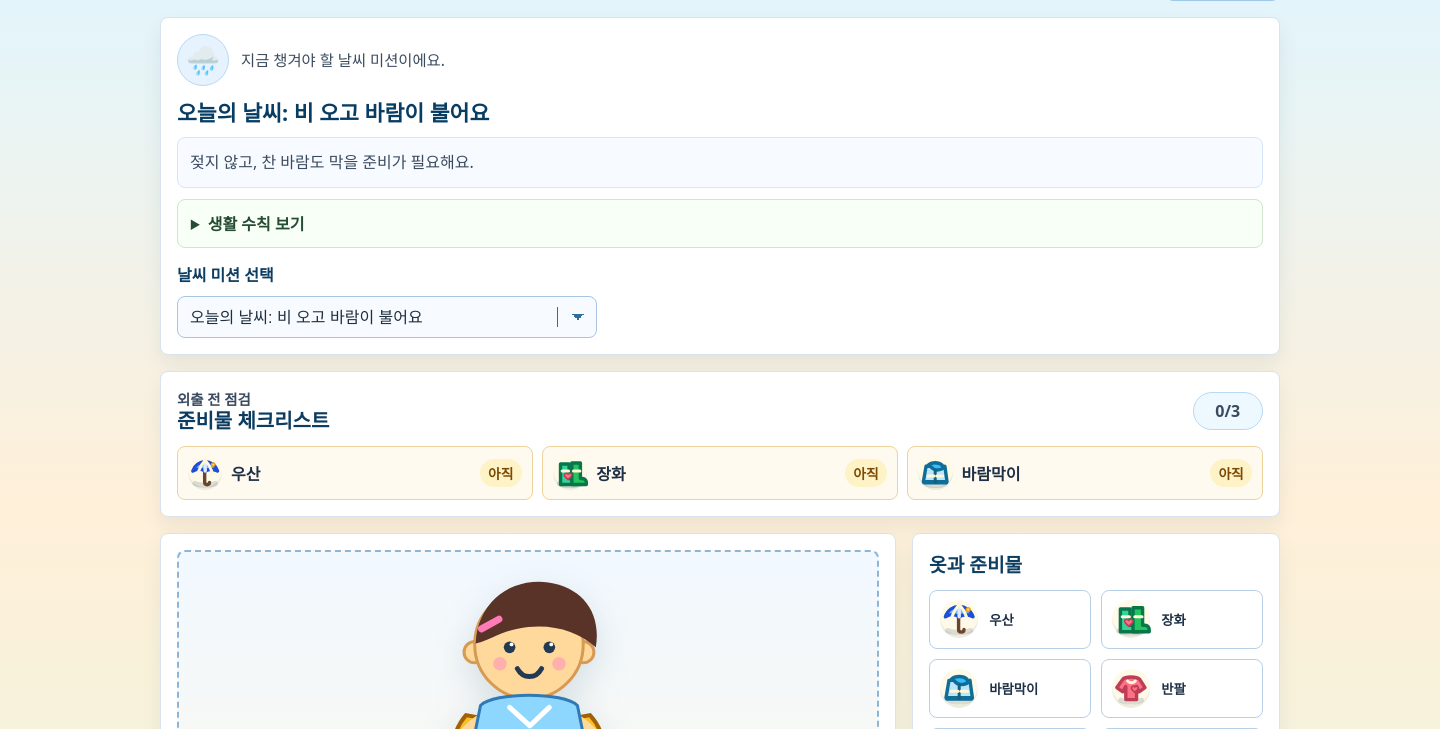
Test: weather outfit planner › updates the pre-outing checklist while students select items
Expected: the list item "우산" shows "아직", [488,464,513,483]
Expected: the list item "장화" shows "아직", [853,464,879,483]
Click the button "우산". click: (1010, 619)
box: [929,590,1091,649]
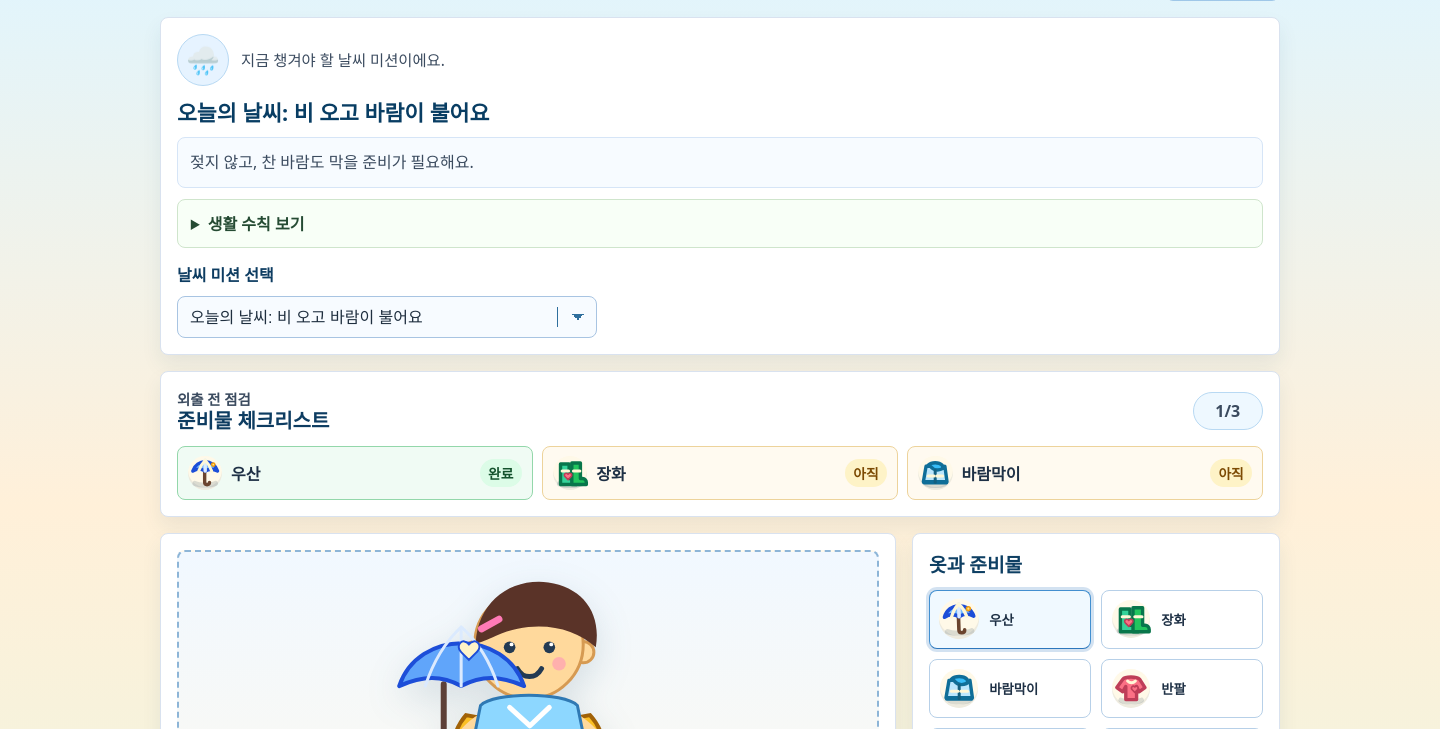
Click the button "장화". click: (1182, 619)
box: [1101,590,1263,649]
(page scrolled)
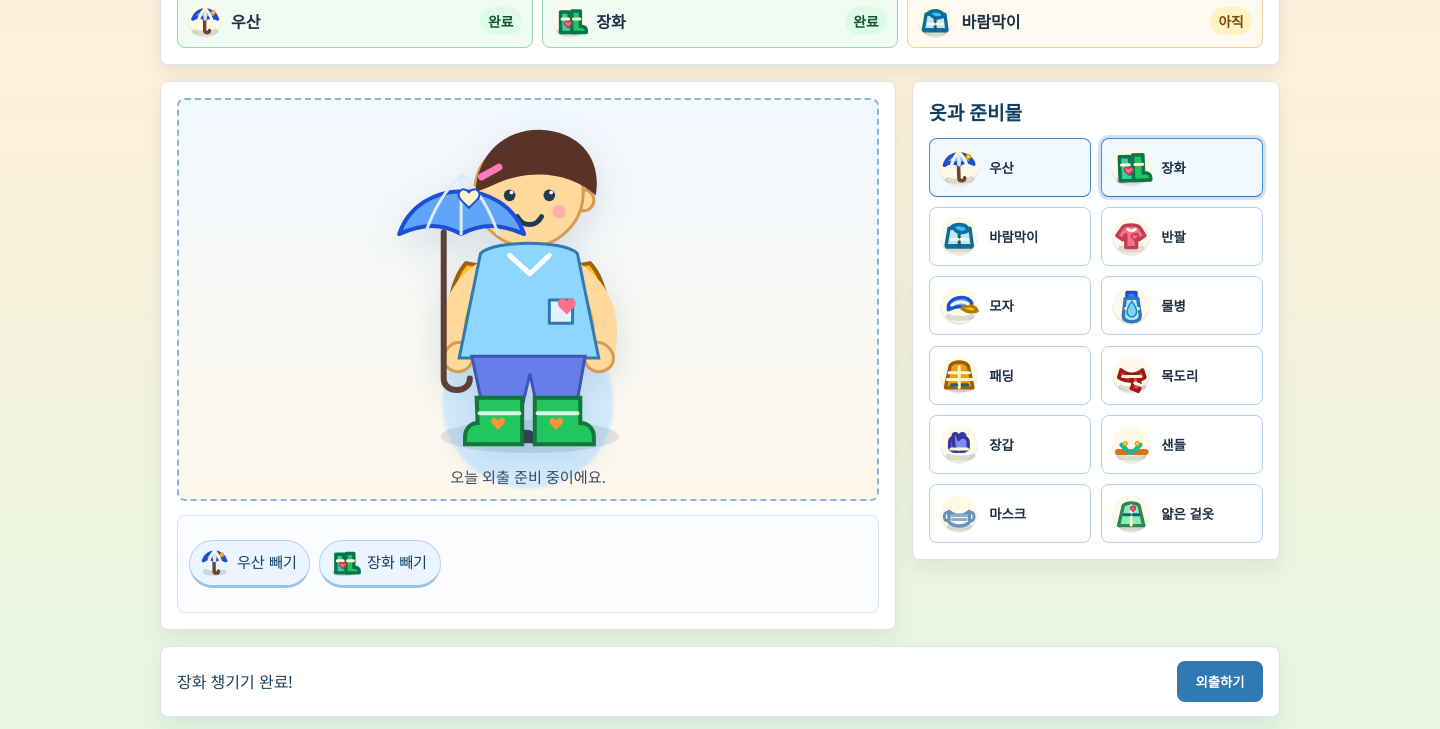
Expected: the list item "바람막이" shows "아직", [1218,12,1244,31]
Expected: the list item "우산" shows "완료", [488,12,513,31]
Expected: the list item "장화" shows "완료", [853,12,879,31]
Click the button "샌들". click: (1182, 444)
box: [1101,415,1263,474]
(page scrolled)
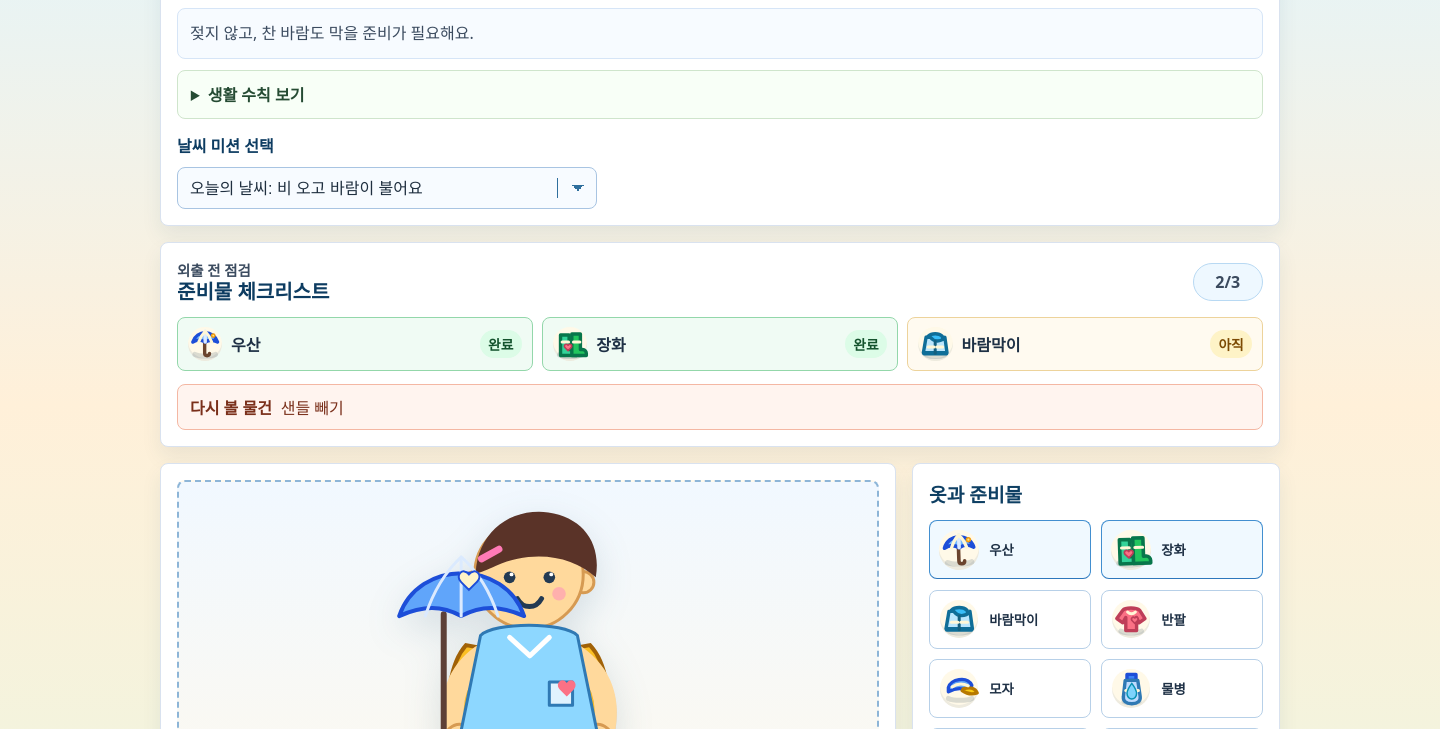
Expected: the element "준비물 체크리스트" shows "다시 볼 물건", [190,397,272,419]
Expected: the element "준비물 체크리스트" shows "샌들 빼기", [281,397,344,419]
